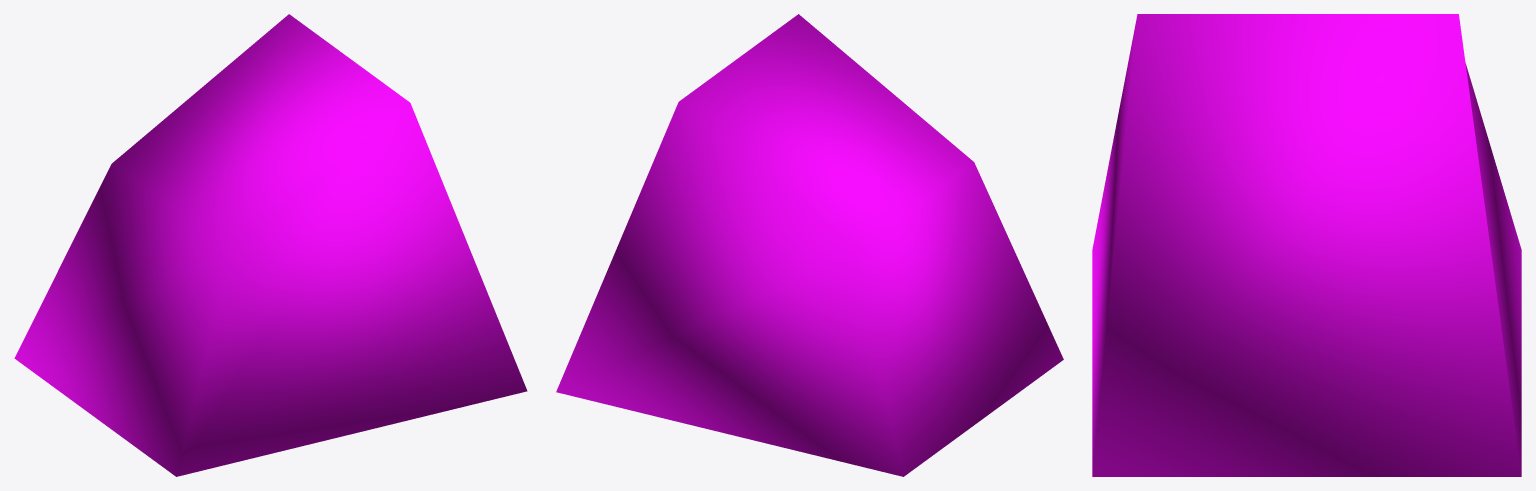
File: zombie_survival_survivor_3_bag_1_onGround_meshCollider.fbx
3 views of the same model, side by side, from view 1: azimuth 30°, elevation 25°; view 2: azimuth 150°, elevation 25°; view 3: azimuth 270°, elevation 25° (orthographic). The views are drawn at different scales.
Parts seen in each view (by area): view 1: zombie_survival_survivor_3_bag_1_onGround_meshCollider; view 2: zombie_survival_survivor_3_bag_1_onGround_meshCollider; view 3: zombie_survival_survivor_3_bag_1_onGround_meshCollider.
Part boxes in pixels (x1,y1,x2,y2): zombie_survival_survivor_3_bag_1_onGround_meshCollider: (14,14,527,476); zombie_survival_survivor_3_bag_1_onGround_meshCollider: (556,14,1063,476); zombie_survival_survivor_3_bag_1_onGround_meshCollider: (1092,14,1521,476).
Bounding box in the file's own units: 14.69 × 12.01 × 11.73.
